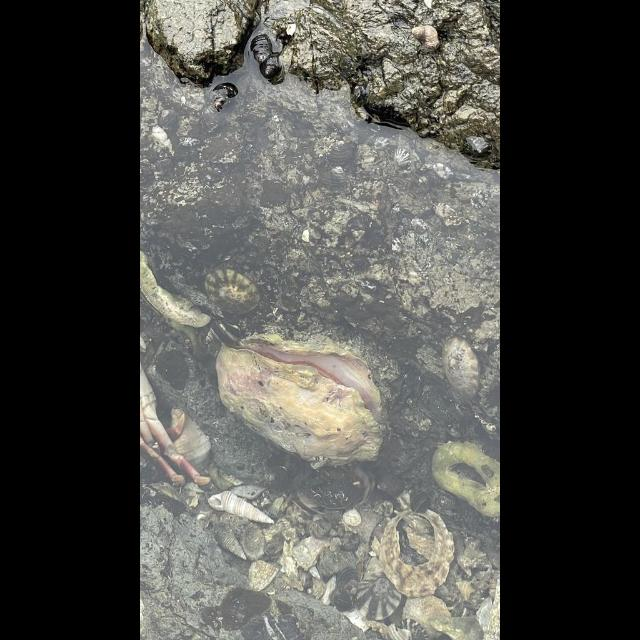Oyster-Open: (211, 328, 387, 468)
